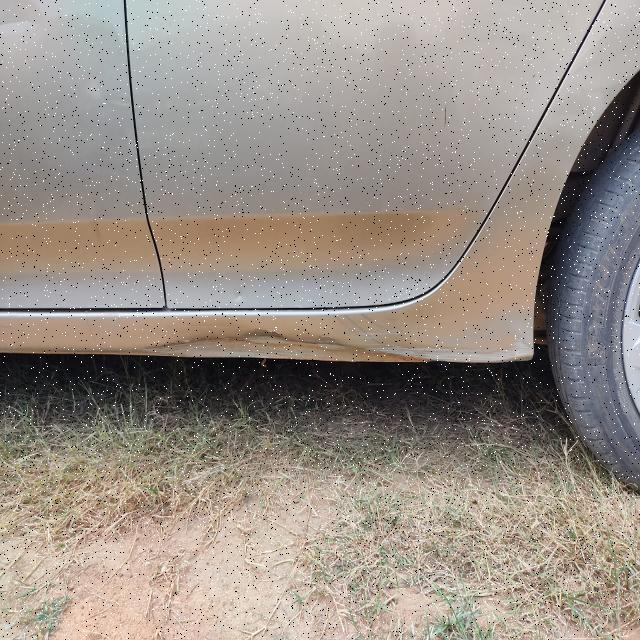RunningBoard-Dent: (132, 308, 444, 370)
